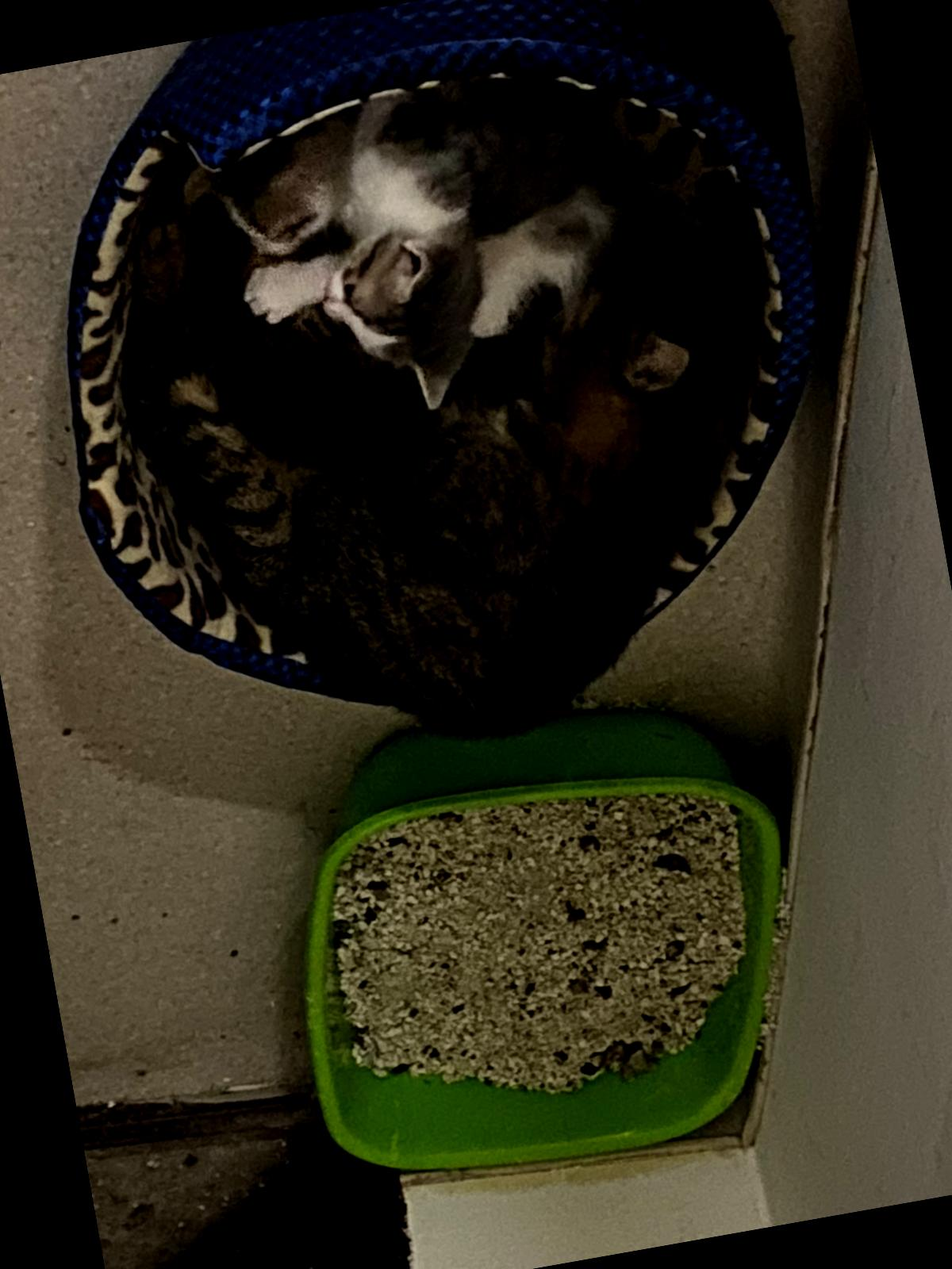macka: (124, 234, 798, 785), (290, 58, 640, 427), (170, 109, 369, 273)
